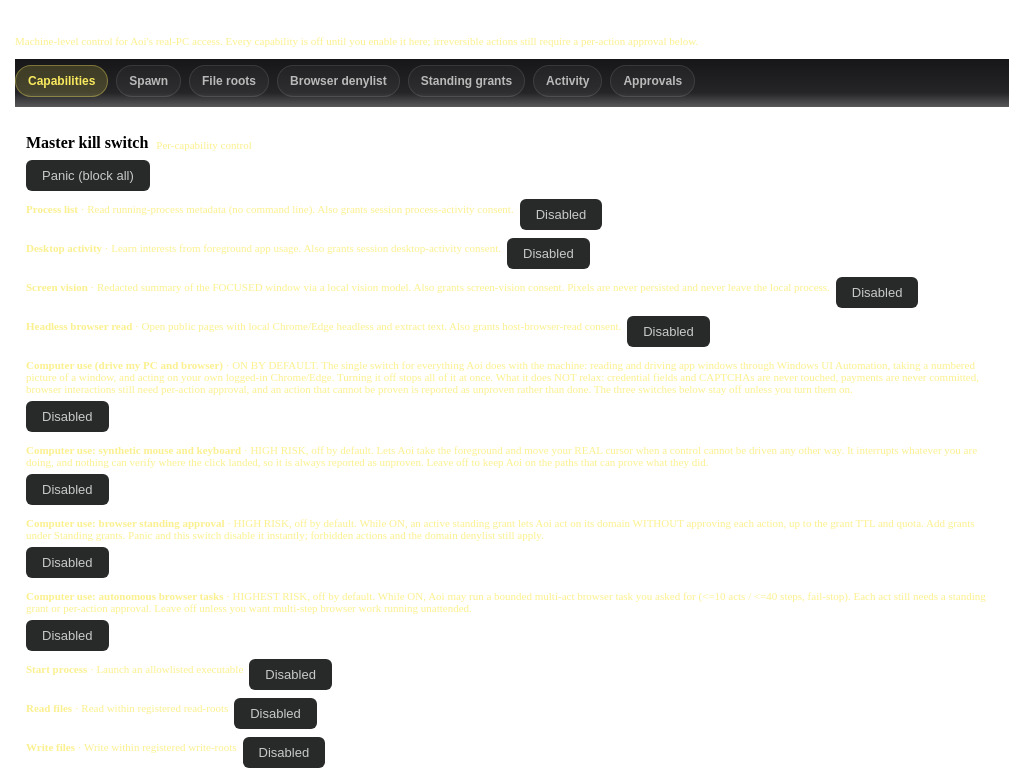
AoiHostBridgeSettingsPanel › shows recorded browser-drive activity with a standing mark
Step 1. Click the button "Activity" → (568, 81), box x1=533 y1=65 x2=602 y2=97
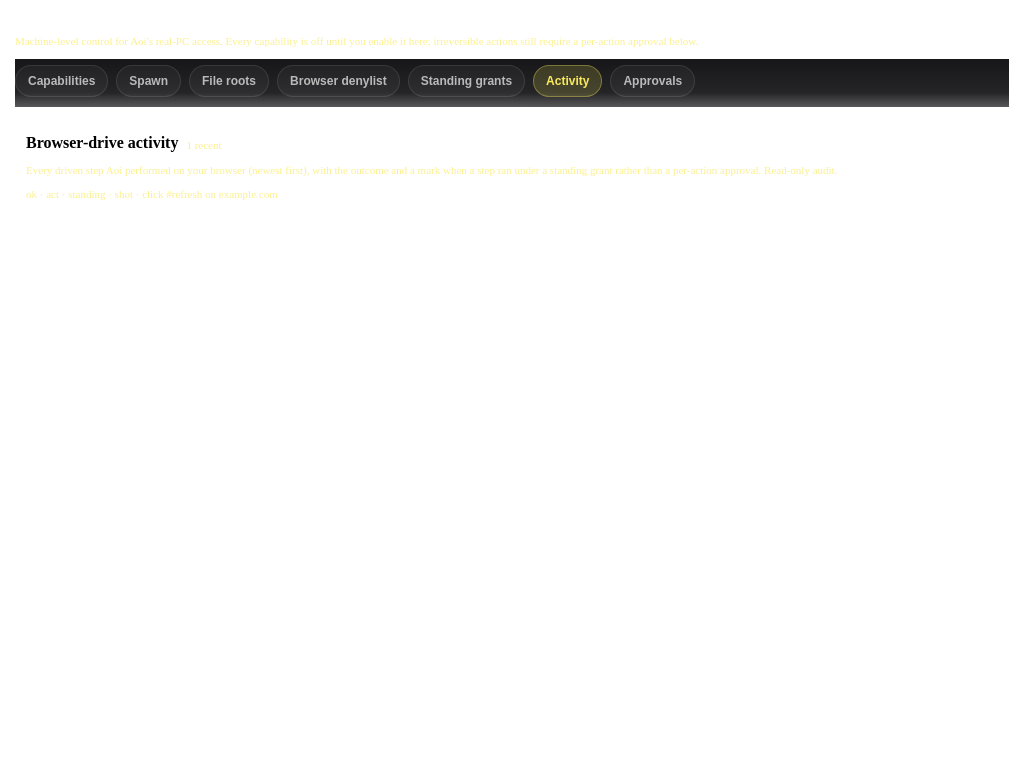
Expected: the element with test id "aoi-host-activity-a1" shows "click #refresh on example.com", x1=142 y1=188 x2=278 y2=200
Expected: the element with test id "aoi-host-activity-a1" shows "standing", x1=59 y1=188 x2=106 y2=200
Expected: the element with test id "aoi-host-activity-a1" shows "shot", x1=106 y1=188 x2=133 y2=200
